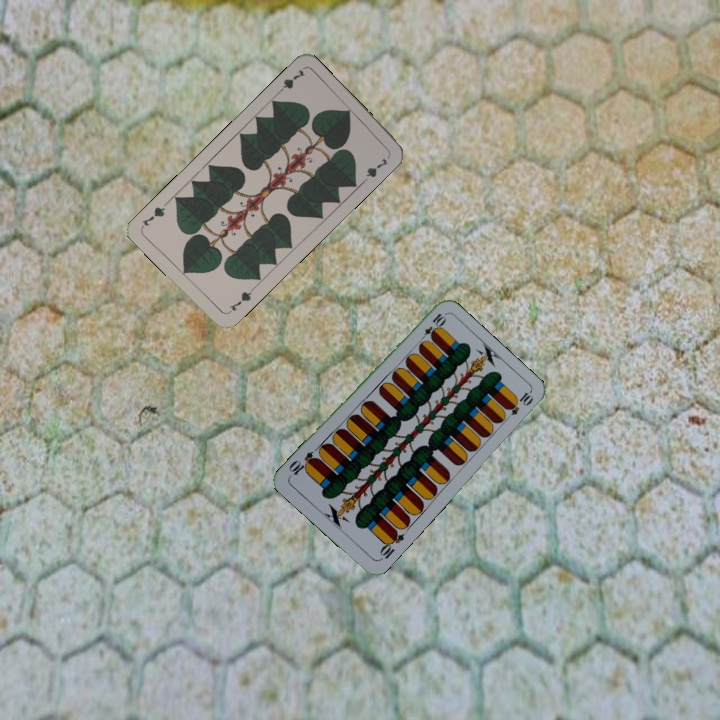E10: (375, 526, 407, 563), (416, 309, 448, 345)
G7: (273, 65, 308, 97), (224, 284, 257, 316)
